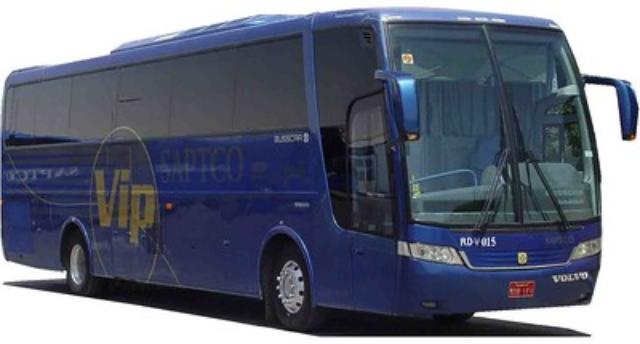bus: (2, 5, 640, 333)
